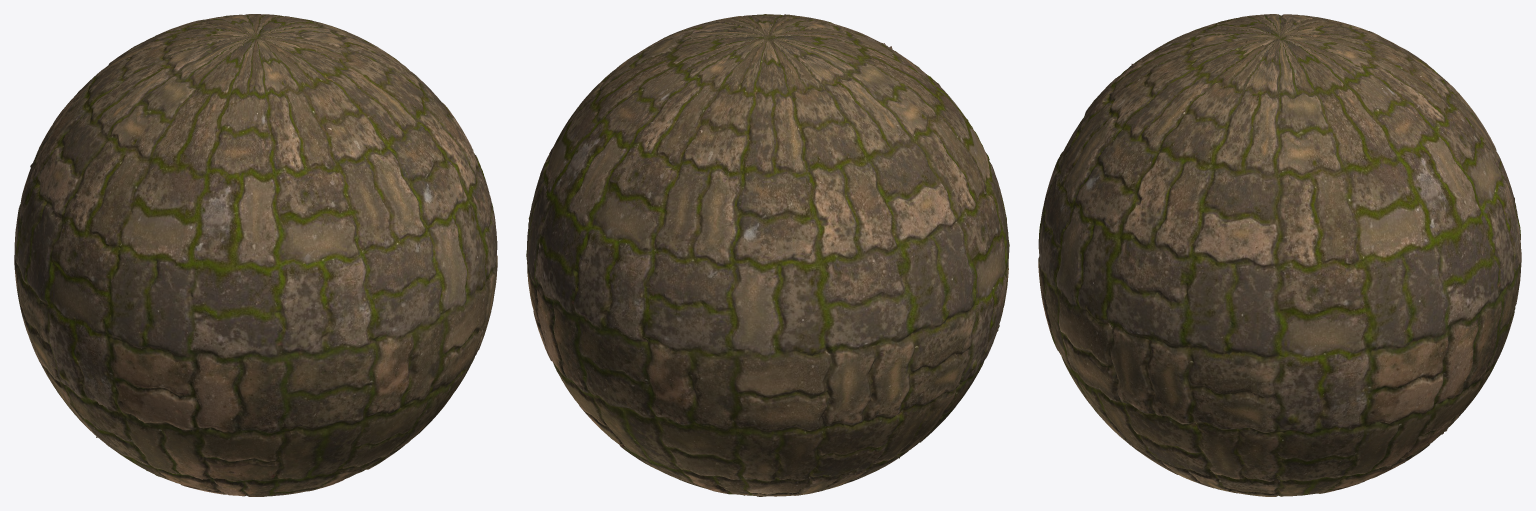
Rendered from brick_moss_001_1k.gltf.
3 views of the same model, side by side, from view 1: azimuth 30°, elevation 25°; view 2: azimuth 150°, elevation 25°; view 3: azimuth 270°, elevation 25° (orthographic).
Parts seen in each view (by area): view 1: sphere_gltf; view 2: sphere_gltf; view 3: sphere_gltf.
Part boxes in pixels (x1,y1,x2,y2): sphere_gltf: [14, 14, 497, 496]; sphere_gltf: [526, 14, 1009, 496]; sphere_gltf: [1038, 14, 1521, 496].
Bounding box in the file's own units: 2.25 × 2.25 × 2.25.
Materials: 1 (1 with a texture image).
